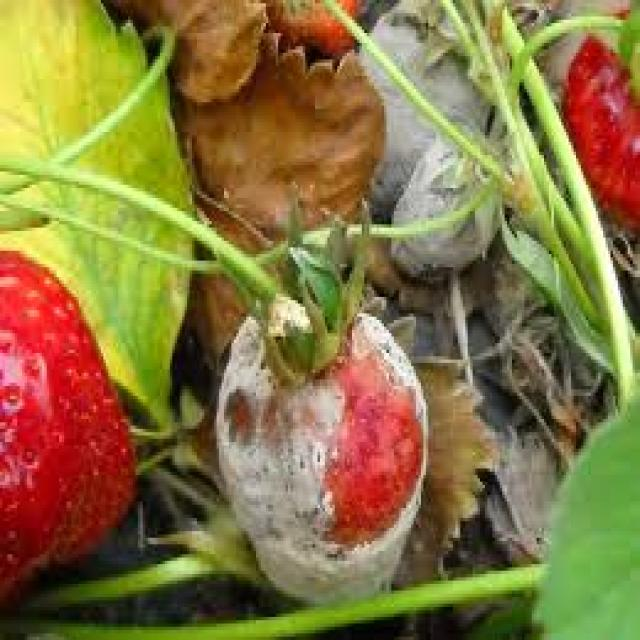organic waste: (0, 0, 199, 439), (207, 198, 421, 594), (167, 29, 389, 370), (0, 241, 133, 594), (529, 386, 638, 637), (357, 3, 495, 198), (386, 353, 495, 591), (389, 132, 495, 280), (564, 17, 638, 225), (111, 0, 268, 96), (258, 0, 356, 59)
